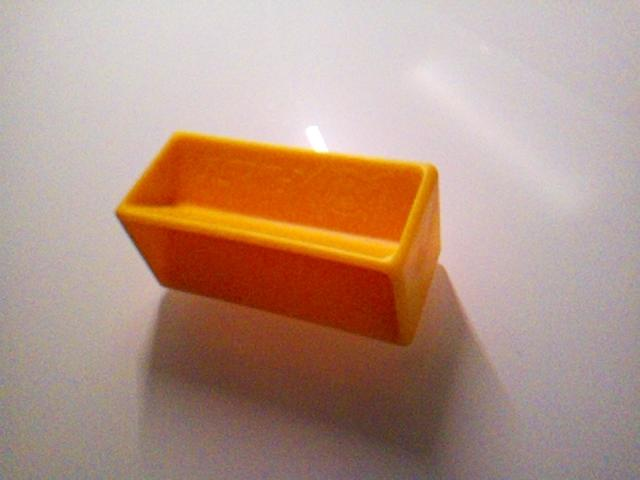yellow: (114, 128, 443, 348)
